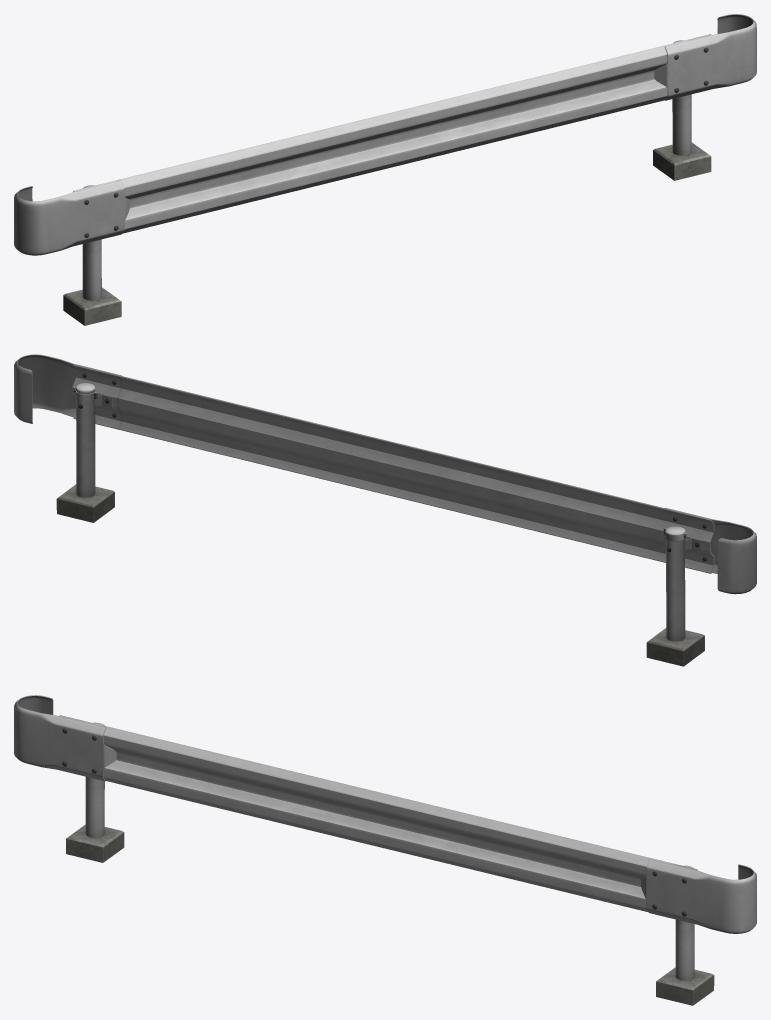
File: Preset_GurdrailA.fbx
3 views of the same model, one above another, from view 1: azimuth 30°, elevation 25°; view 2: azimuth 150°, elevation 25°; view 3: azimuth 330°, elevation 25° (orthographic).
Parts seen in each view (by area): view 1: Beam, SleeveB, SleeveA, BaseStoneA, BaseStonB, PoleA, PoleB; view 2: Beam, SleeveA, SleeveB, PoleA, PoleB, BaseStonB, BaseStoneA; view 3: Beam, SleeveA, SleeveB, BaseStonB, BaseStoneA, PoleB, PoleA.
Part boxes in pixels (x1,y1,x2,y2): Beam: (73, 34, 711, 233); SleeveB: (14, 180, 130, 255); SleeveA: (654, 14, 756, 100); BaseStoneA: (653, 142, 711, 180); BaseStonB: (63, 287, 121, 325); PoleA: (672, 40, 691, 155); PoleB: (82, 185, 101, 300); Beam: (72, 364, 714, 573); SleeveA: (14, 354, 121, 423); SleeveB: (665, 507, 756, 594); PoleA: (74, 383, 97, 497); PoleB: (663, 526, 687, 641); BaseStonB: (646, 628, 704, 666); BaseStoneA: (56, 484, 114, 522); Beam: (59, 715, 697, 912); SleeveA: (641, 859, 756, 933); SleeveB: (14, 695, 116, 781); BaseStonB: (66, 824, 124, 862); BaseStoneA: (656, 967, 714, 1005); PoleB: (85, 722, 104, 837); PoleA: (675, 865, 694, 980).
Bounding box in the file's own units: 499 × 28.65 × 88.13.
4 materials, 4 textured.
